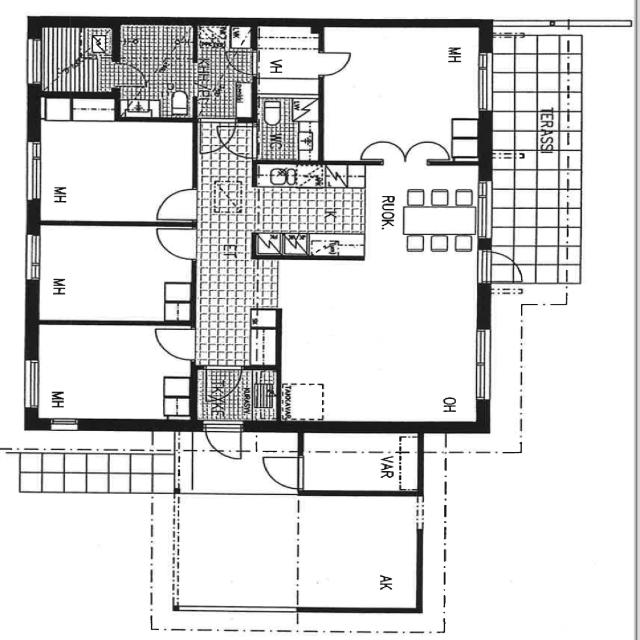door: (256, 30, 334, 91), (200, 419, 249, 463), (149, 185, 201, 222), (150, 324, 200, 362), (152, 224, 200, 263), (257, 452, 305, 491), (475, 246, 521, 285), (313, 47, 357, 78), (211, 120, 244, 159), (111, 59, 148, 87), (224, 46, 257, 74)
window: (489, 14, 578, 34), (472, 326, 494, 406), (19, 228, 46, 292), (22, 136, 46, 208), (19, 356, 44, 416), (472, 50, 493, 115), (474, 179, 493, 243), (23, 36, 42, 88), (409, 497, 429, 534), (44, 417, 82, 432)
zone: (320, 24, 482, 164), (34, 112, 196, 225), (31, 222, 198, 325), (34, 322, 195, 424), (111, 21, 250, 121), (253, 161, 365, 238), (299, 431, 423, 495), (253, 48, 321, 162), (256, 25, 322, 97), (196, 365, 274, 418), (250, 328, 279, 367)
